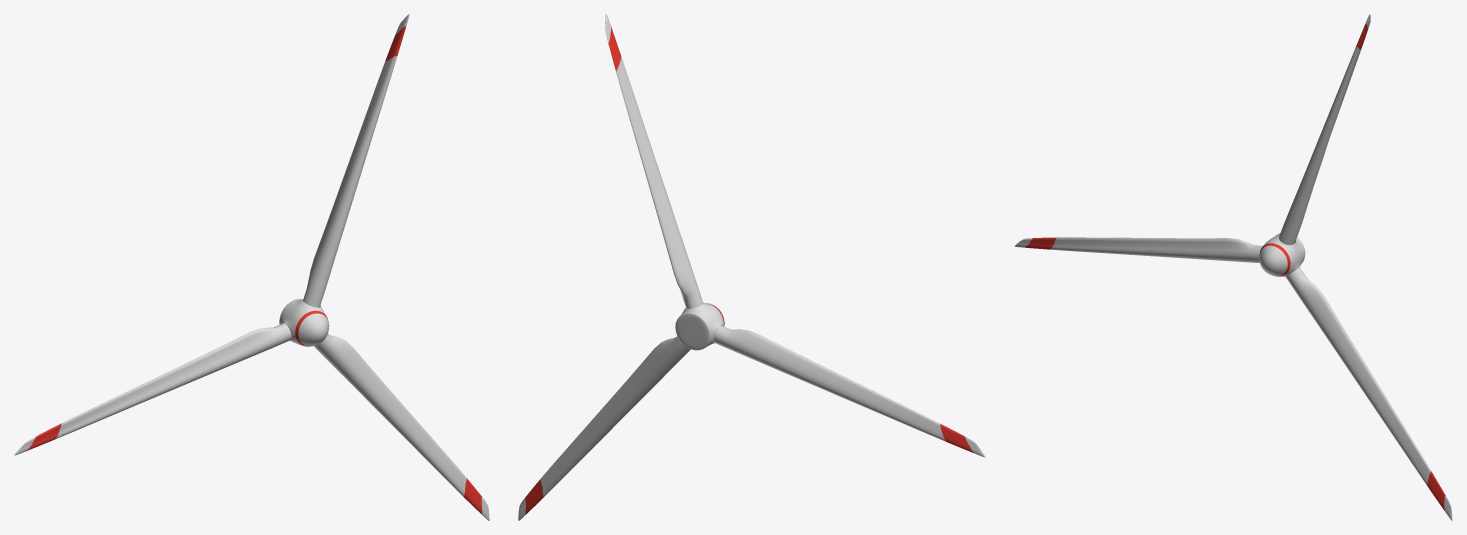
Rendered from wind_turbine_wheel.dae.
3 views of the same model, side by side, from view 1: azimuth 30°, elevation 25°; view 2: azimuth 150°, elevation 25°; view 3: azimuth 330°, elevation 25° (orthographic). The views are drawn at different scales.
Parts seen in each view (by area): view 1: Cylinder.001_Cylinder.001; view 2: Cylinder.001_Cylinder.001; view 3: Cylinder.001_Cylinder.001.
Part boxes in pixels (x1,y1,x2,y2): Cylinder.001_Cylinder.001: (14, 14, 489, 520); Cylinder.001_Cylinder.001: (518, 14, 985, 520); Cylinder.001_Cylinder.001: (1014, 14, 1452, 520).
Size of the model in its own units: 2.76 by 0.2396 by 2.95.
